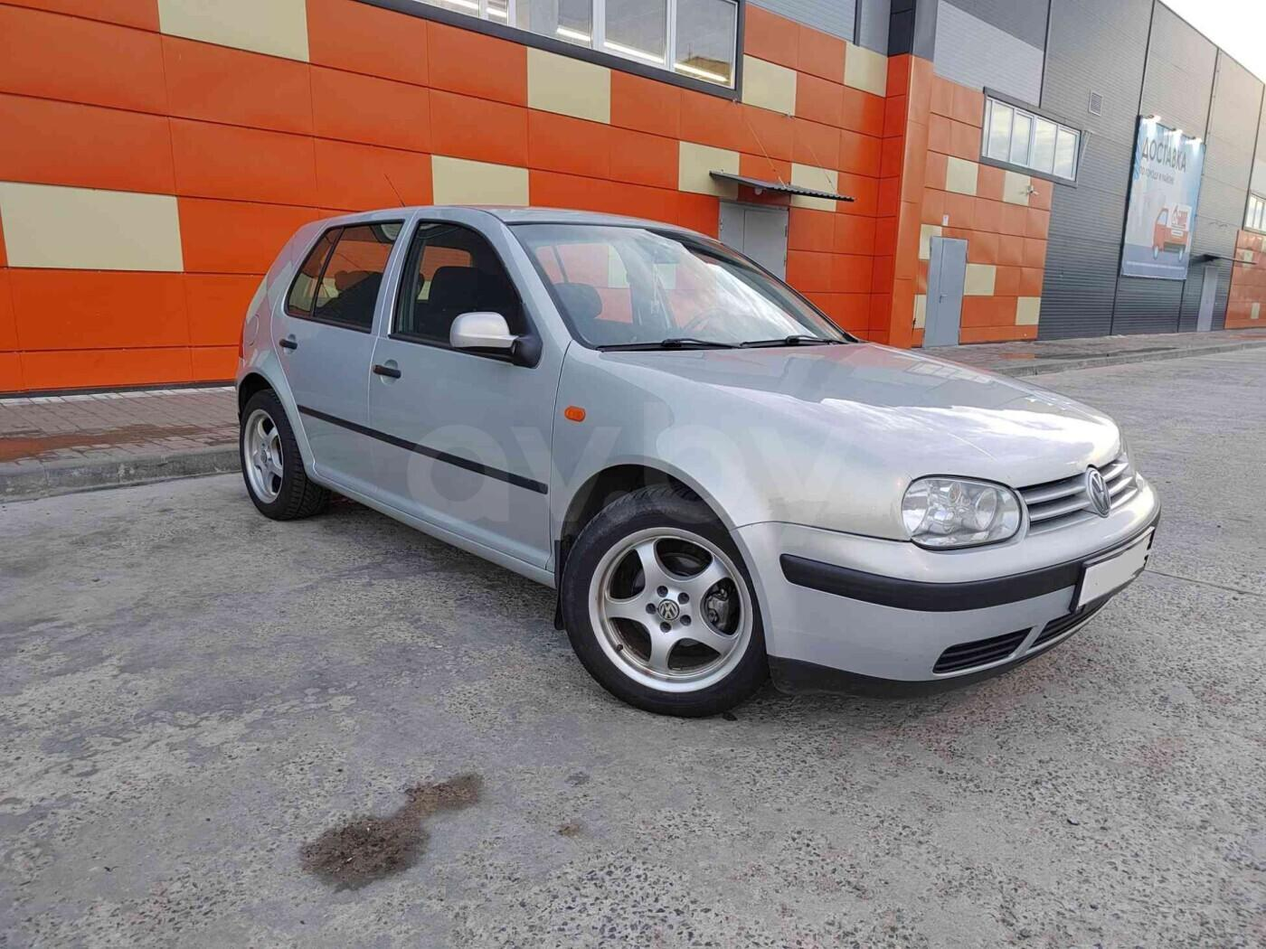Golf_1997-2006: (228, 197, 1160, 712)
